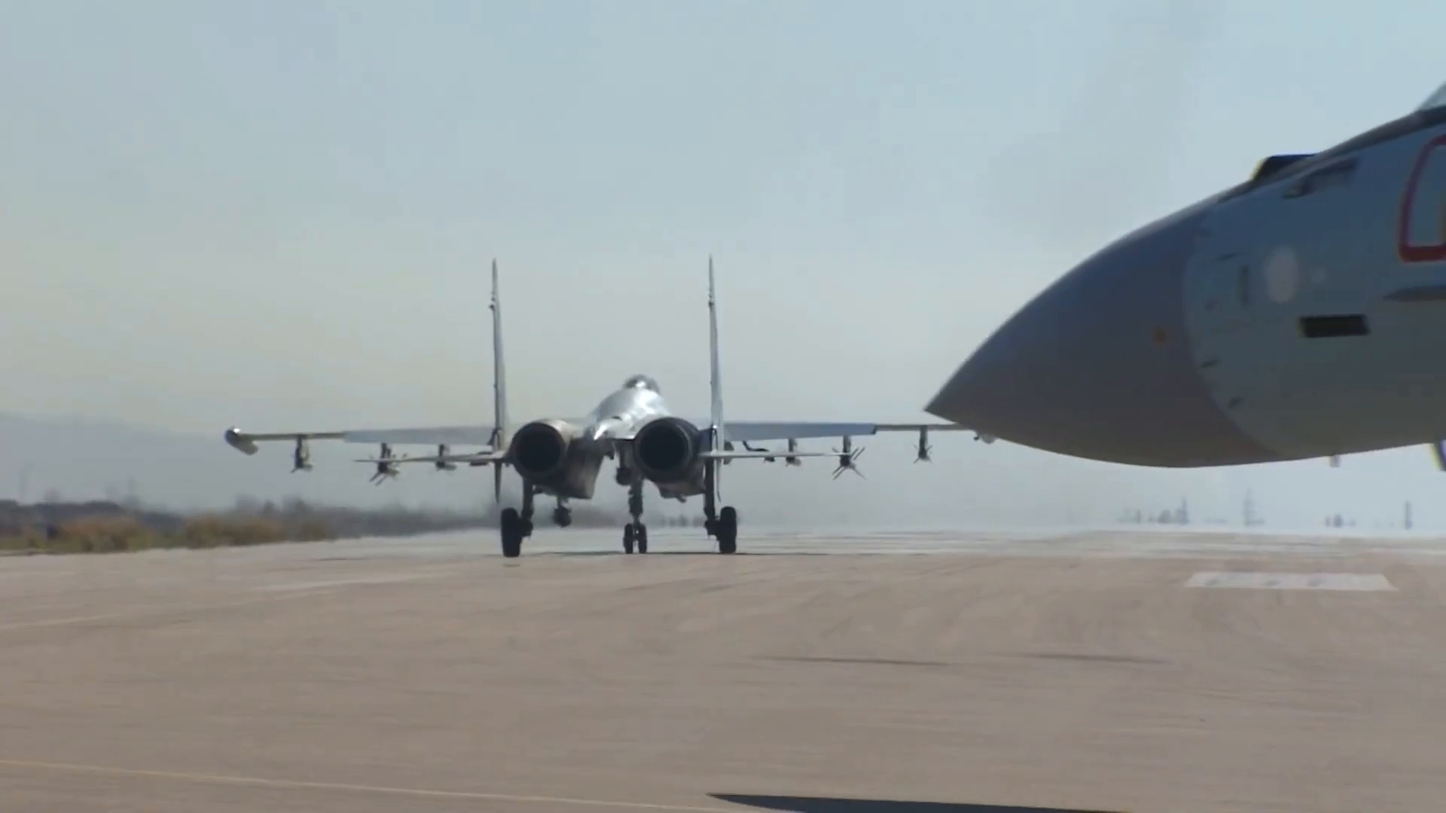Su35: (223, 255, 1000, 559)
